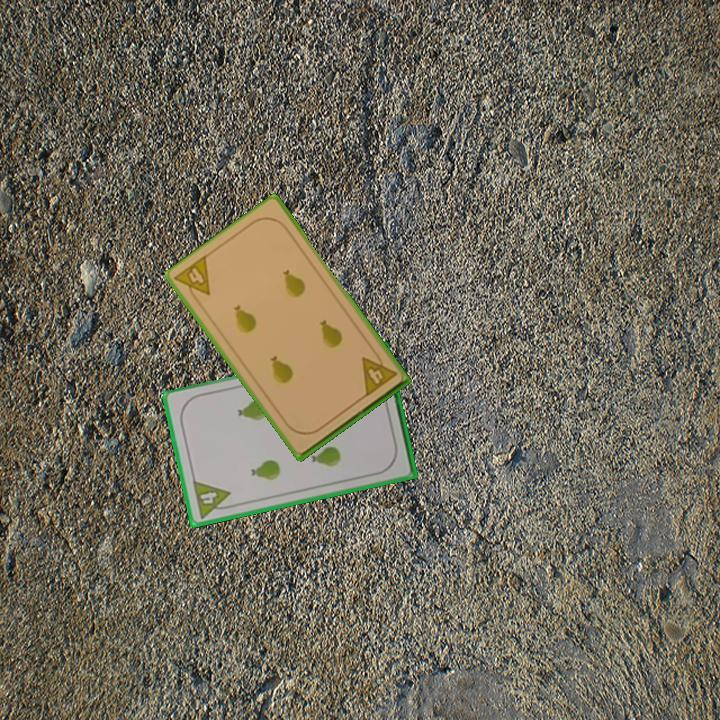4p: (171, 252, 213, 307), (358, 347, 400, 399), (189, 477, 236, 521)
